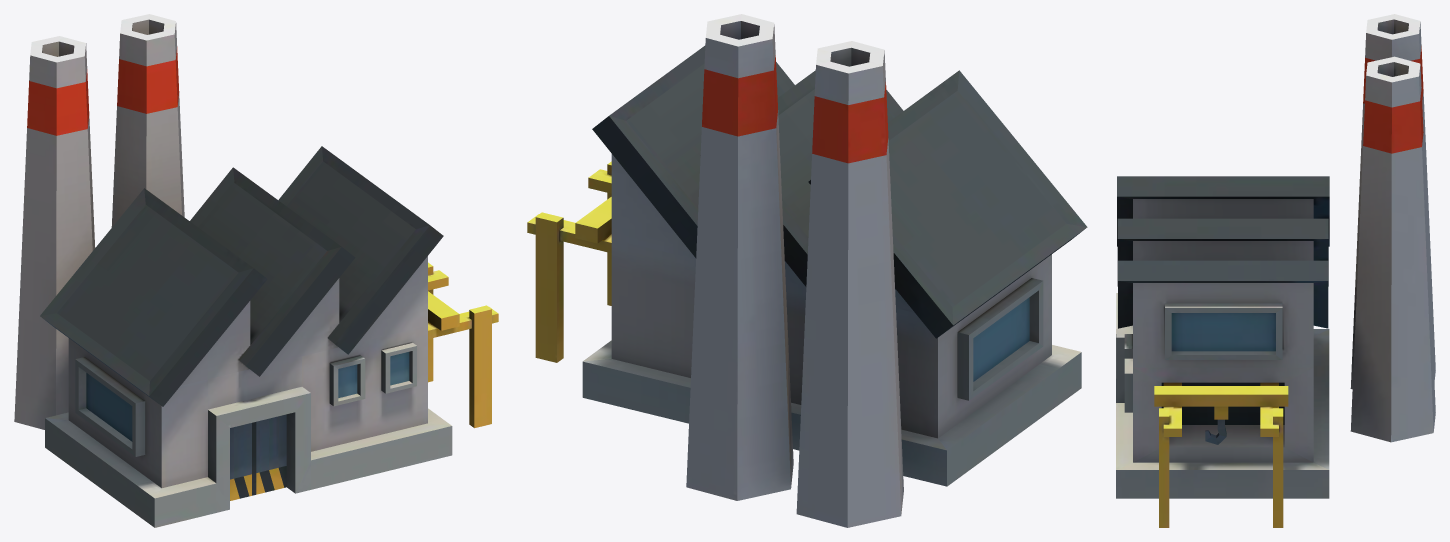
The model's file is factory.glb.
3 views of the same model, side by side, from view 1: azimuth 30°, elevation 25°; view 2: azimuth 150°, elevation 25°; view 3: azimuth 270°, elevation 25° (orthographic). The views are drawn at different scales.
Visible parts, largest first — view 1: factory; view 2: factory; view 3: factory.
Part boxes in pixels (bbox=[...]): factory: bbox=[14, 14, 498, 527]; factory: bbox=[527, 14, 1087, 527]; factory: bbox=[1116, 14, 1435, 527].
Size of the model in its own units: 1.82 by 1.69 by 1.39.
1 material, 1 textured.
